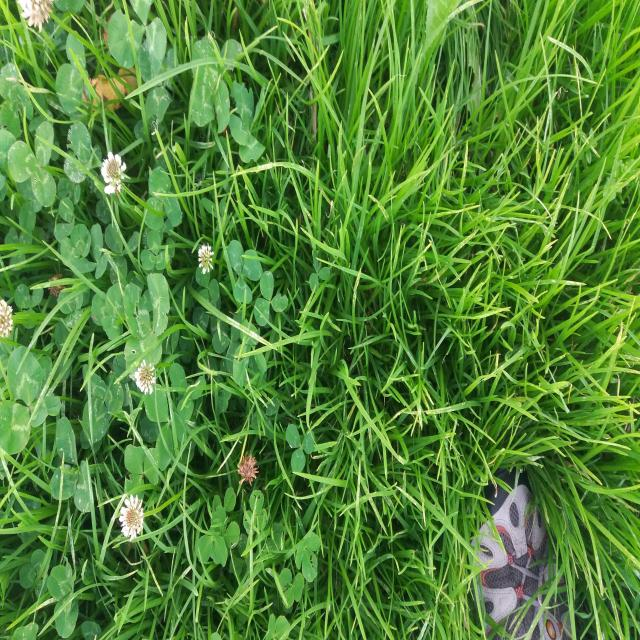Four Leaf Clover: (393, 283, 452, 409)
